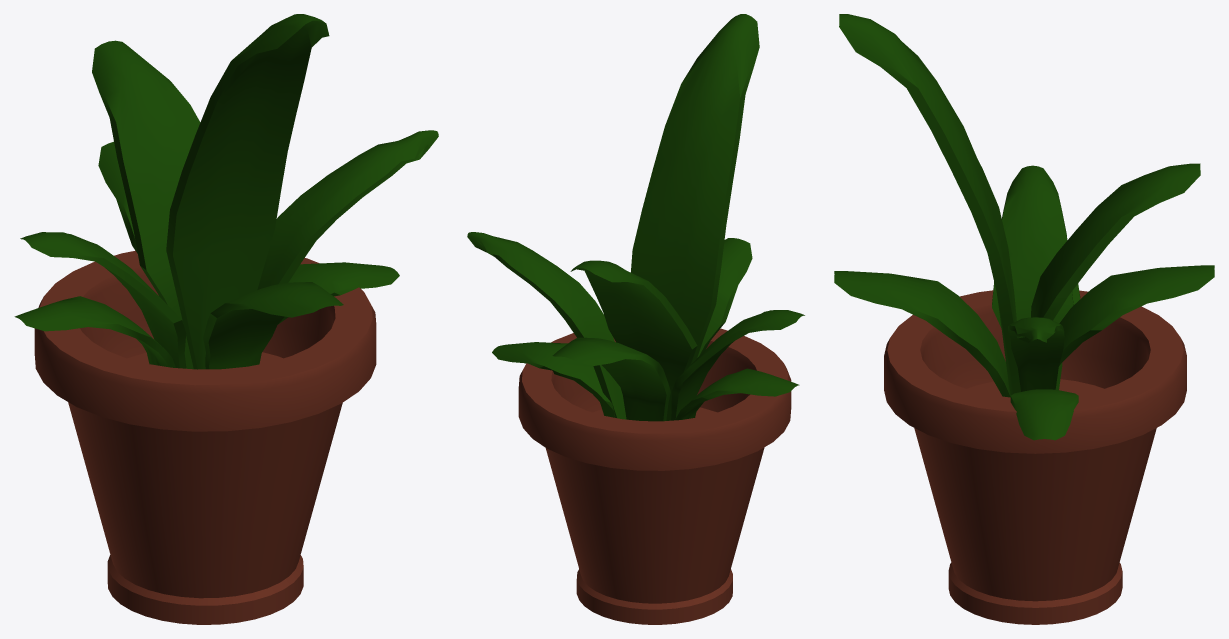
Rendered from pot_adjustModel2.fbx.
3 renders of one model, left to right at view 1: azimuth 30°, elevation 25°; view 2: azimuth 150°, elevation 25°; view 3: azimuth 270°, elevation 25°, orthographic. The views are drawn at different scales.
Visible parts, largest first — view 1: Cylinder.004; view 2: Cylinder.004; view 3: Cylinder.004.
Boxes of the visible parts, left/top/right/bottom form: Cylinder.004: left=14, top=14, right=438, bottom=624; Cylinder.004: left=467, top=14, right=804, bottom=624; Cylinder.004: left=834, top=14, right=1214, bottom=624.
Size of the model in its own units: 328 by 488 by 295.
